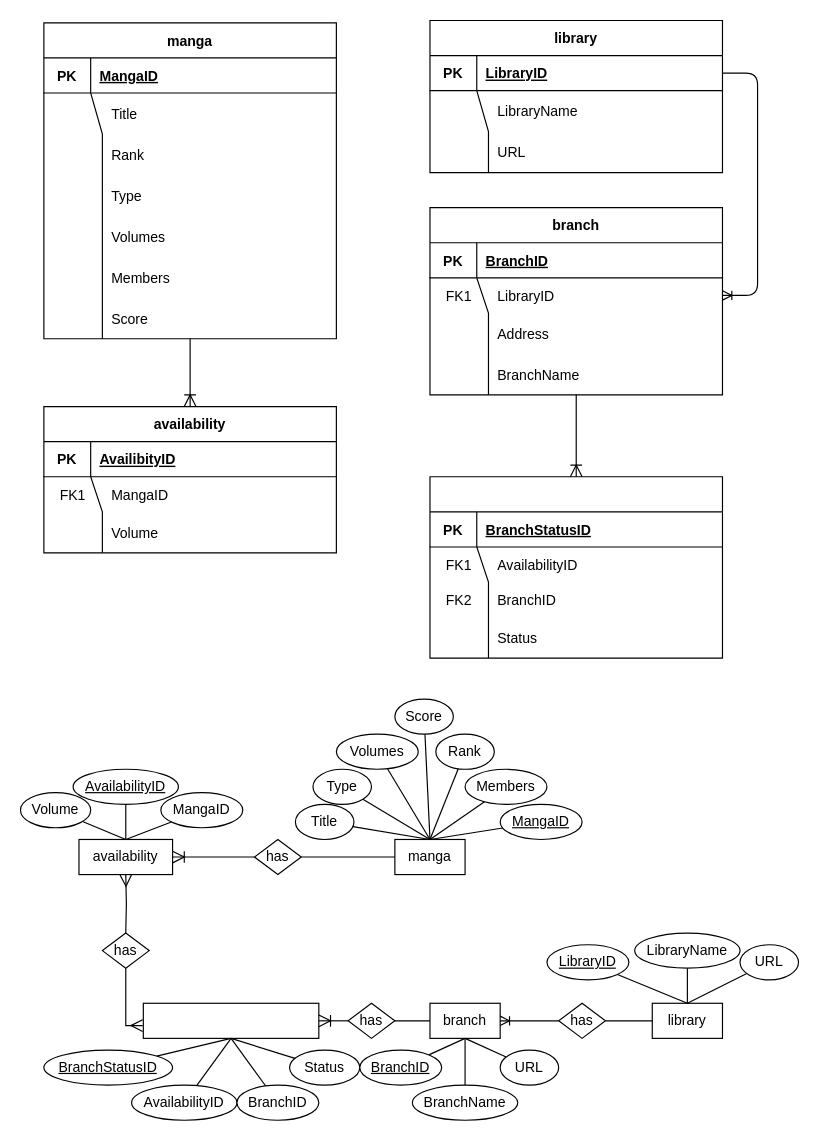
Image size: 819x1141. Some labels were removed from this diagram. The shapes that lost their labels are listed below. From the top down, each one's box as (x1, y1, x2, y2) in pixels, then its label:
(429, 476, 722, 658): branch_availability_status
(142, 1002, 319, 1038): branch_availbility_status
